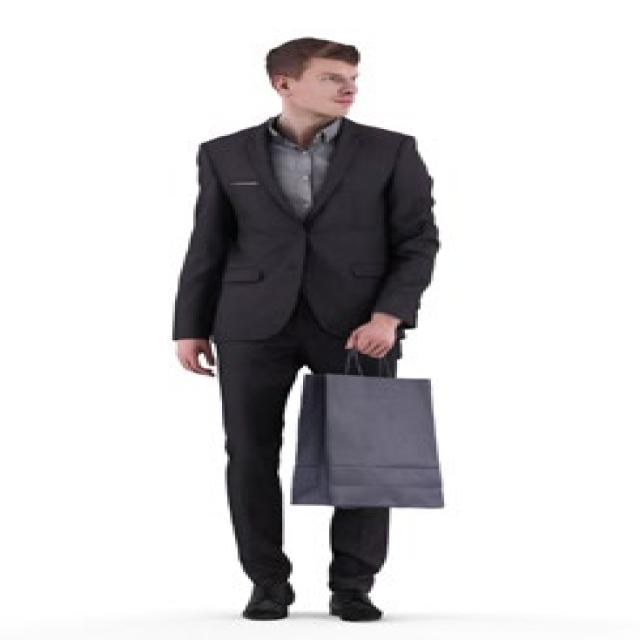standing: (167, 37, 454, 623)
